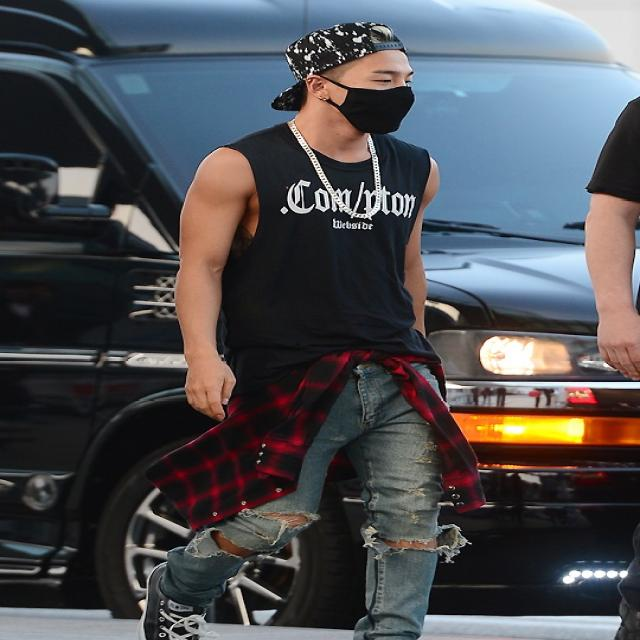mask: (330, 42, 412, 132)
